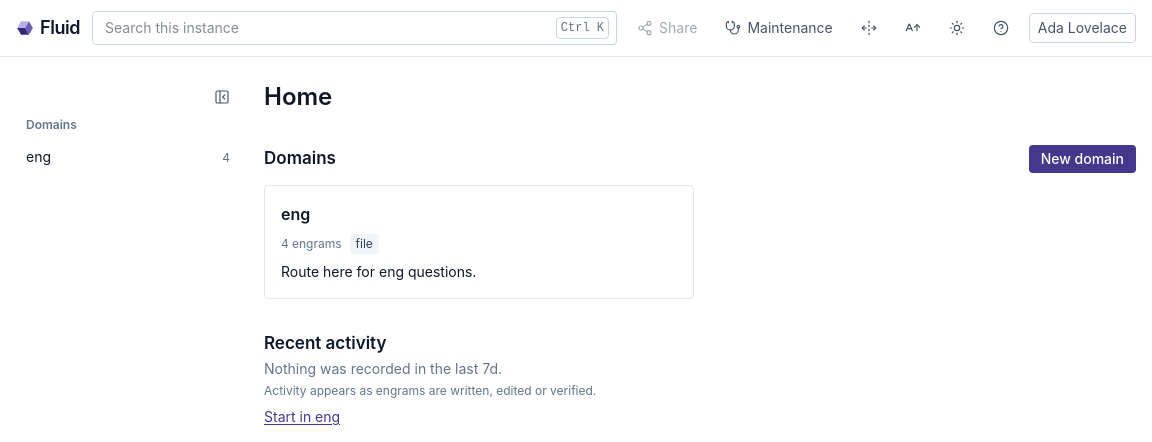
Test case: the top bar's share action › says to connect GitHub before it says there is nothing to share
Expected: the heading "Home" is shown, [264,82,332,111]
Hover over the button with aria-label "Share changes" at [667, 28], box [629,12,705,44]
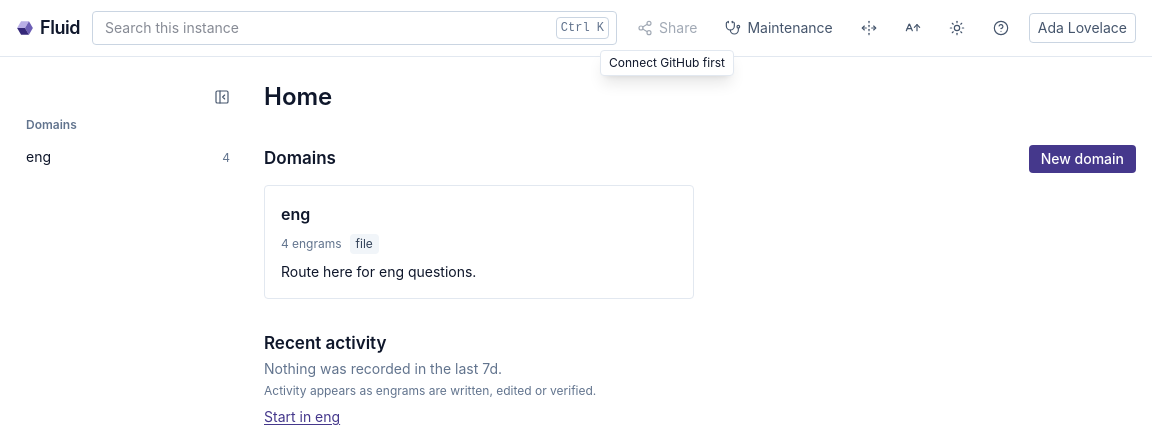
Now the tooltip reads "Connect GitHub first", box [609,55,725,70]
